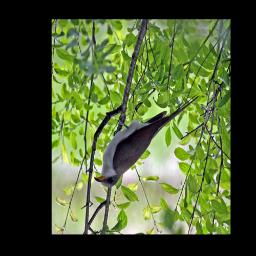Cuckoo: (93, 92, 198, 188)
